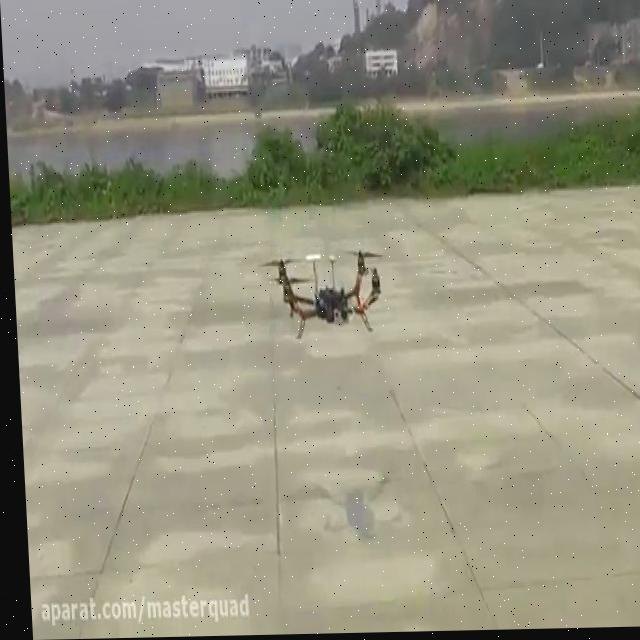drone: (252, 245, 385, 345)
